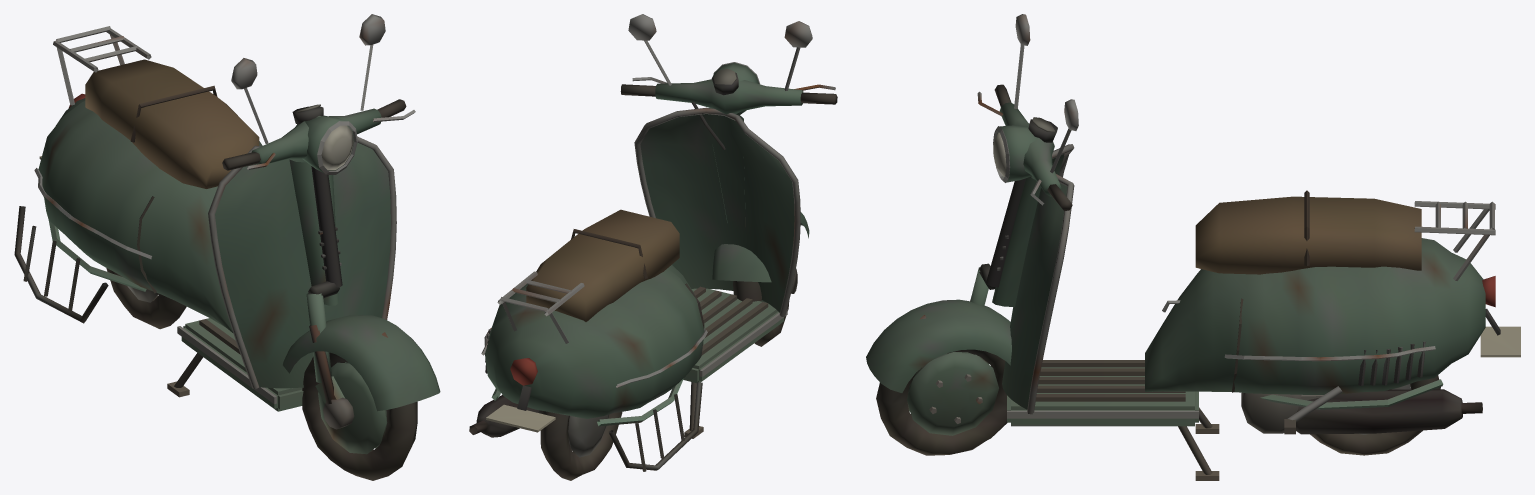
File: scooter_open_v2_b.glb
3 views of the same model, side by side, from view 1: azimuth 30°, elevation 25°; view 2: azimuth 150°, elevation 25°; view 3: azimuth 270°, elevation 25° (orthographic). The views are drawn at different scales.
Parts seen in each view (by area): view 1: hb_metal, hb_main; view 2: hb_metal, hb_main; view 3: hb_metal, hb_main.
Boxes of the visible parts, bbox=[...] form: hb_metal: bbox=[14, 14, 440, 454]; hb_main: bbox=[69, 59, 417, 480]; hb_metal: bbox=[469, 14, 835, 471]; hb_main: bbox=[510, 68, 837, 480]; hb_metal: bbox=[866, 14, 1520, 474]; hb_main: bbox=[876, 84, 1495, 480].
Size of the model in its own units: 0.7601 by 1.33 by 1.94.
